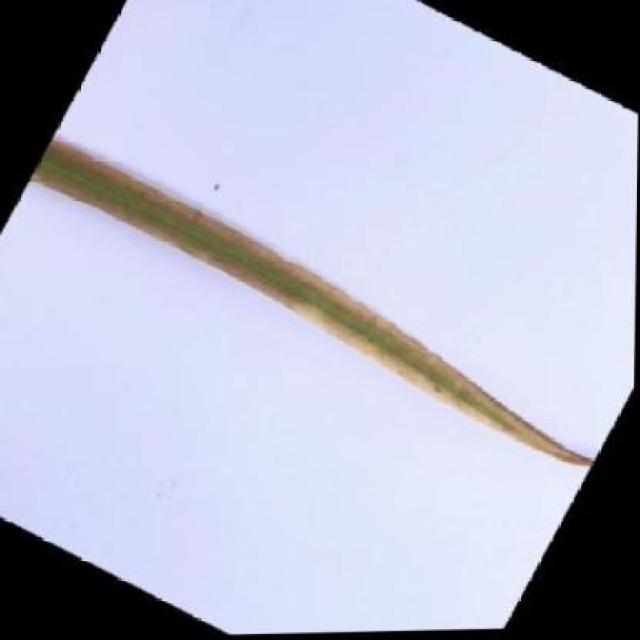Rice False Smut: (23, 121, 622, 488)
